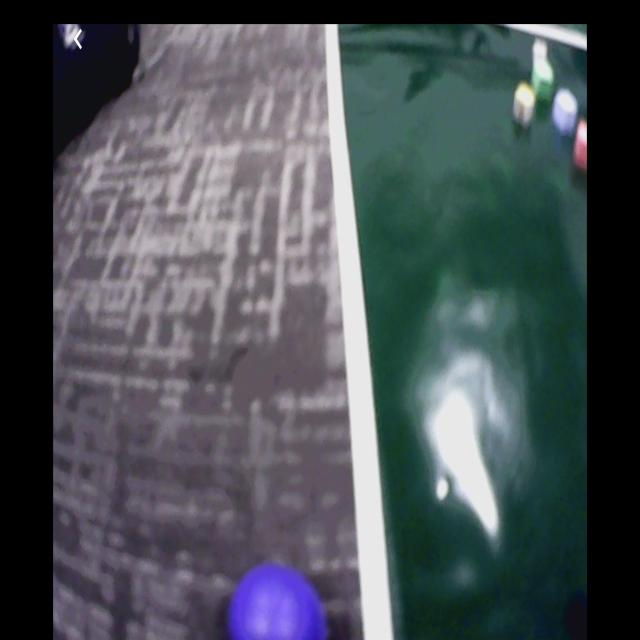ball: (230, 563, 328, 640)
